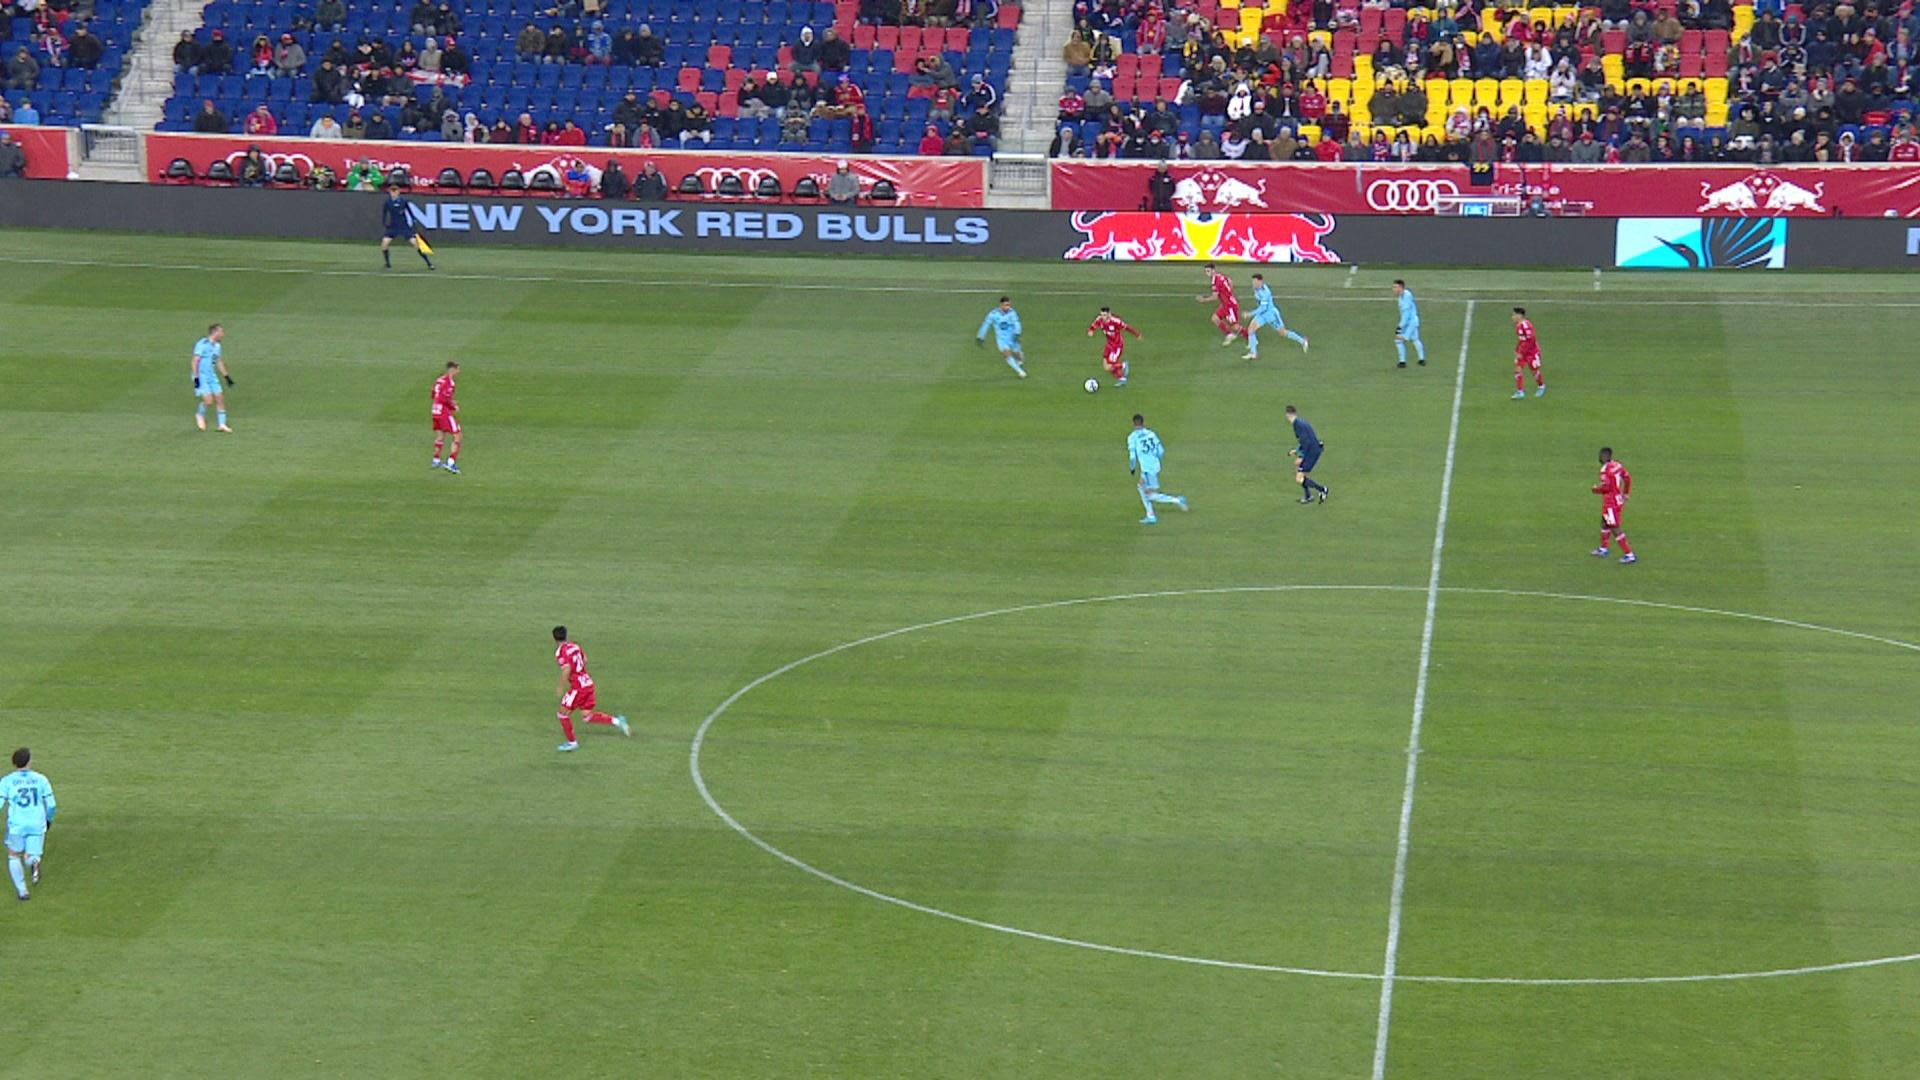football: (1083, 377, 1100, 394)
